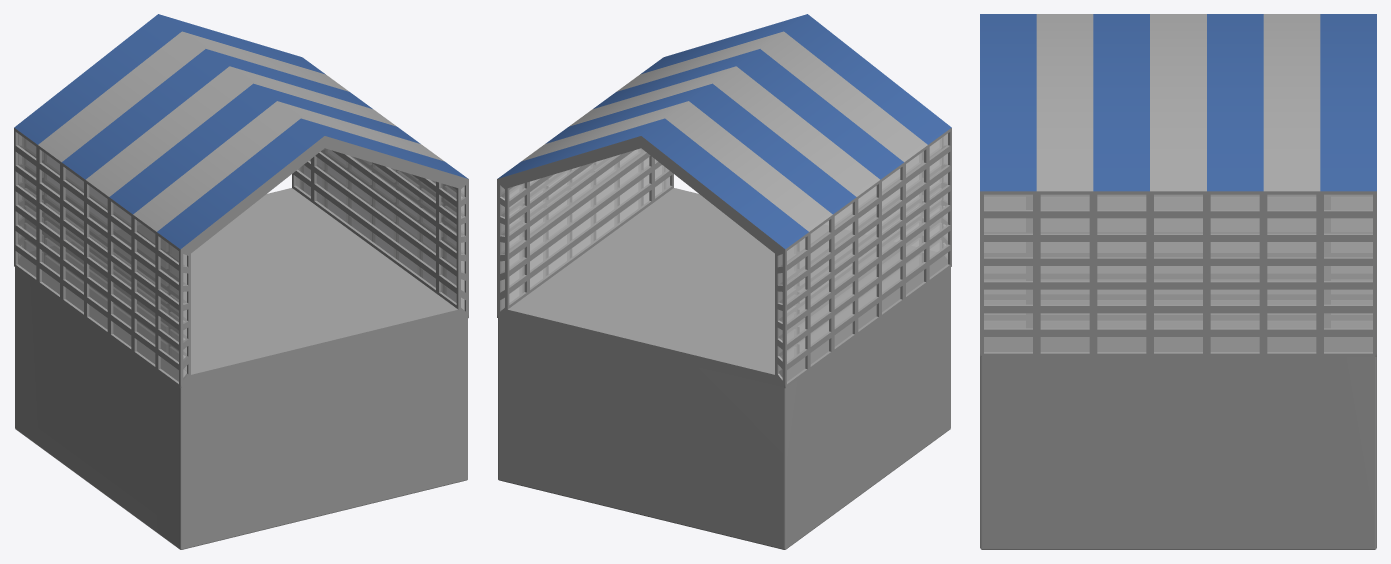
Rendered from Stasiun.fbx.
The picture shows the model from 3 angles, left to right: view 1: azimuth 30°, elevation 25°; view 2: azimuth 150°, elevation 25°; view 3: azimuth 270°, elevation 25°; orthographic projection. The views are drawn at different scales.
Visible parts, largest first — view 1: pCube1; view 2: pCube1; view 3: pCube1.
Part boxes in pixels (left/top/right/bottom): pCube1: left=14, top=14, right=468, bottom=549; pCube1: left=497, top=14, right=951, bottom=549; pCube1: left=980, top=14, right=1376, bottom=549.
Bounding box in the file's own units: 1013 × 1277 × 1013.
